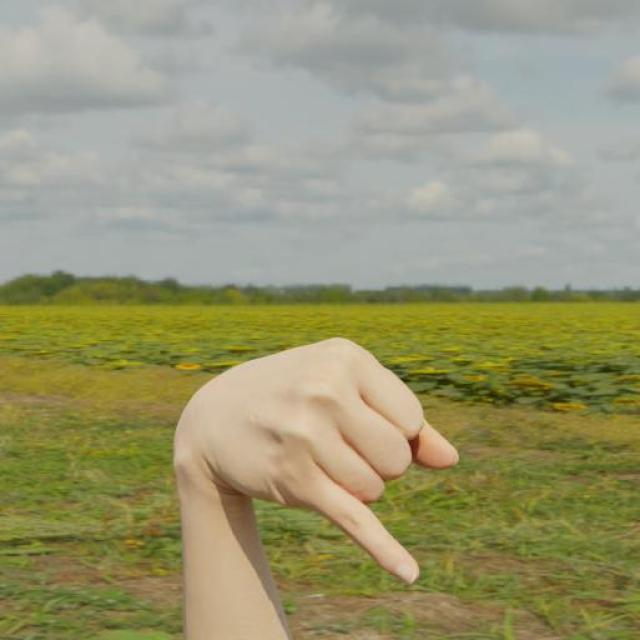J: (129, 303, 492, 621)
